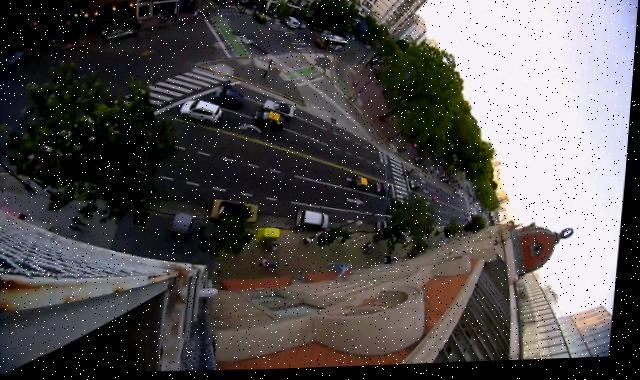bus: (316, 33, 349, 53)
car: (212, 199, 262, 226), (180, 99, 224, 126), (298, 209, 333, 231), (254, 109, 288, 131), (212, 89, 245, 109), (264, 100, 296, 120), (106, 27, 134, 42), (355, 177, 374, 193), (56, 40, 79, 52), (377, 184, 394, 198), (284, 17, 298, 30), (253, 15, 267, 25), (411, 183, 424, 192), (379, 222, 389, 231), (300, 23, 306, 30), (456, 192, 463, 197), (365, 47, 372, 51), (465, 198, 470, 203), (460, 194, 464, 198), (467, 214, 470, 218), (468, 220, 471, 224), (470, 215, 473, 219), (471, 220, 474, 223), (463, 198, 465, 200)
